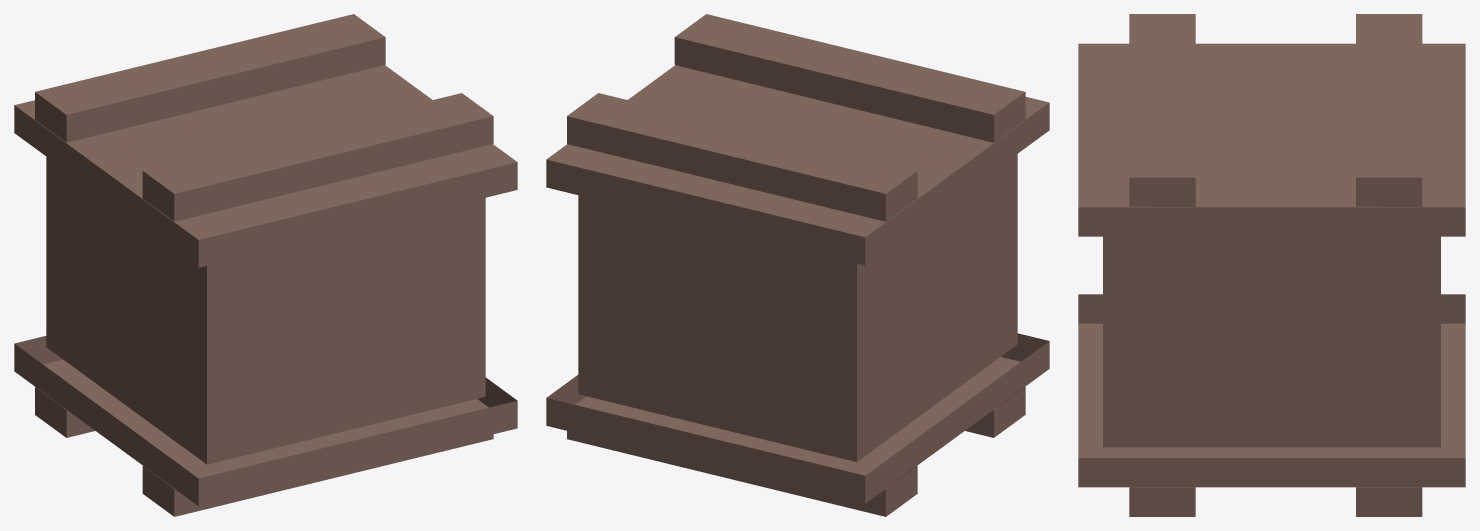
File: crate_top_bottom_walled.glb
The picture shows the model from 3 angles, left to right: view 1: azimuth 30°, elevation 25°; view 2: azimuth 150°, elevation 25°; view 3: azimuth 270°, elevation 25°; orthographic projection. The views are drawn at different scales.
Parts seen in each view (by area): view 1: rock02_Mesh_007_Base_0.4213; view 2: rock02_Mesh_007_Base_0.4213; view 3: rock02_Mesh_007_Base_0.4213.
Boxes of the visible parts, box(x1,y1,x2,y2) form: rock02_Mesh_007_Base_0.4213: box(14, 14, 517, 516); rock02_Mesh_007_Base_0.4213: box(546, 14, 1049, 516); rock02_Mesh_007_Base_0.4213: box(1078, 14, 1465, 516).
Bounding box in the file's own units: 0.6871 × 0.6647 × 0.6871.
Materials: 1 (1 with a texture image).
